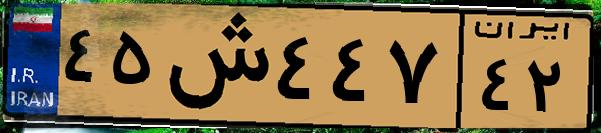2: (525, 38, 570, 115)
4: (270, 28, 330, 110), (330, 28, 385, 110), (57, 26, 110, 100), (475, 38, 525, 113)
5: (110, 28, 158, 98)
7: (385, 28, 445, 110)
ش: (158, 12, 270, 120)
